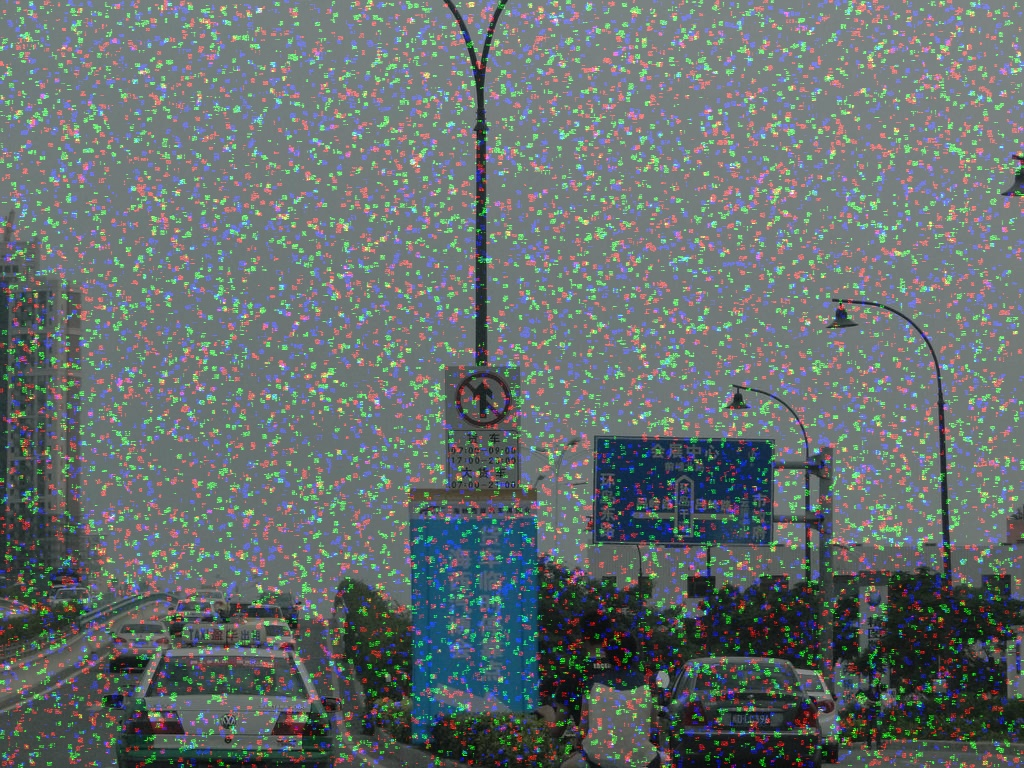Prohibitory Signs: (452, 369, 514, 430)
